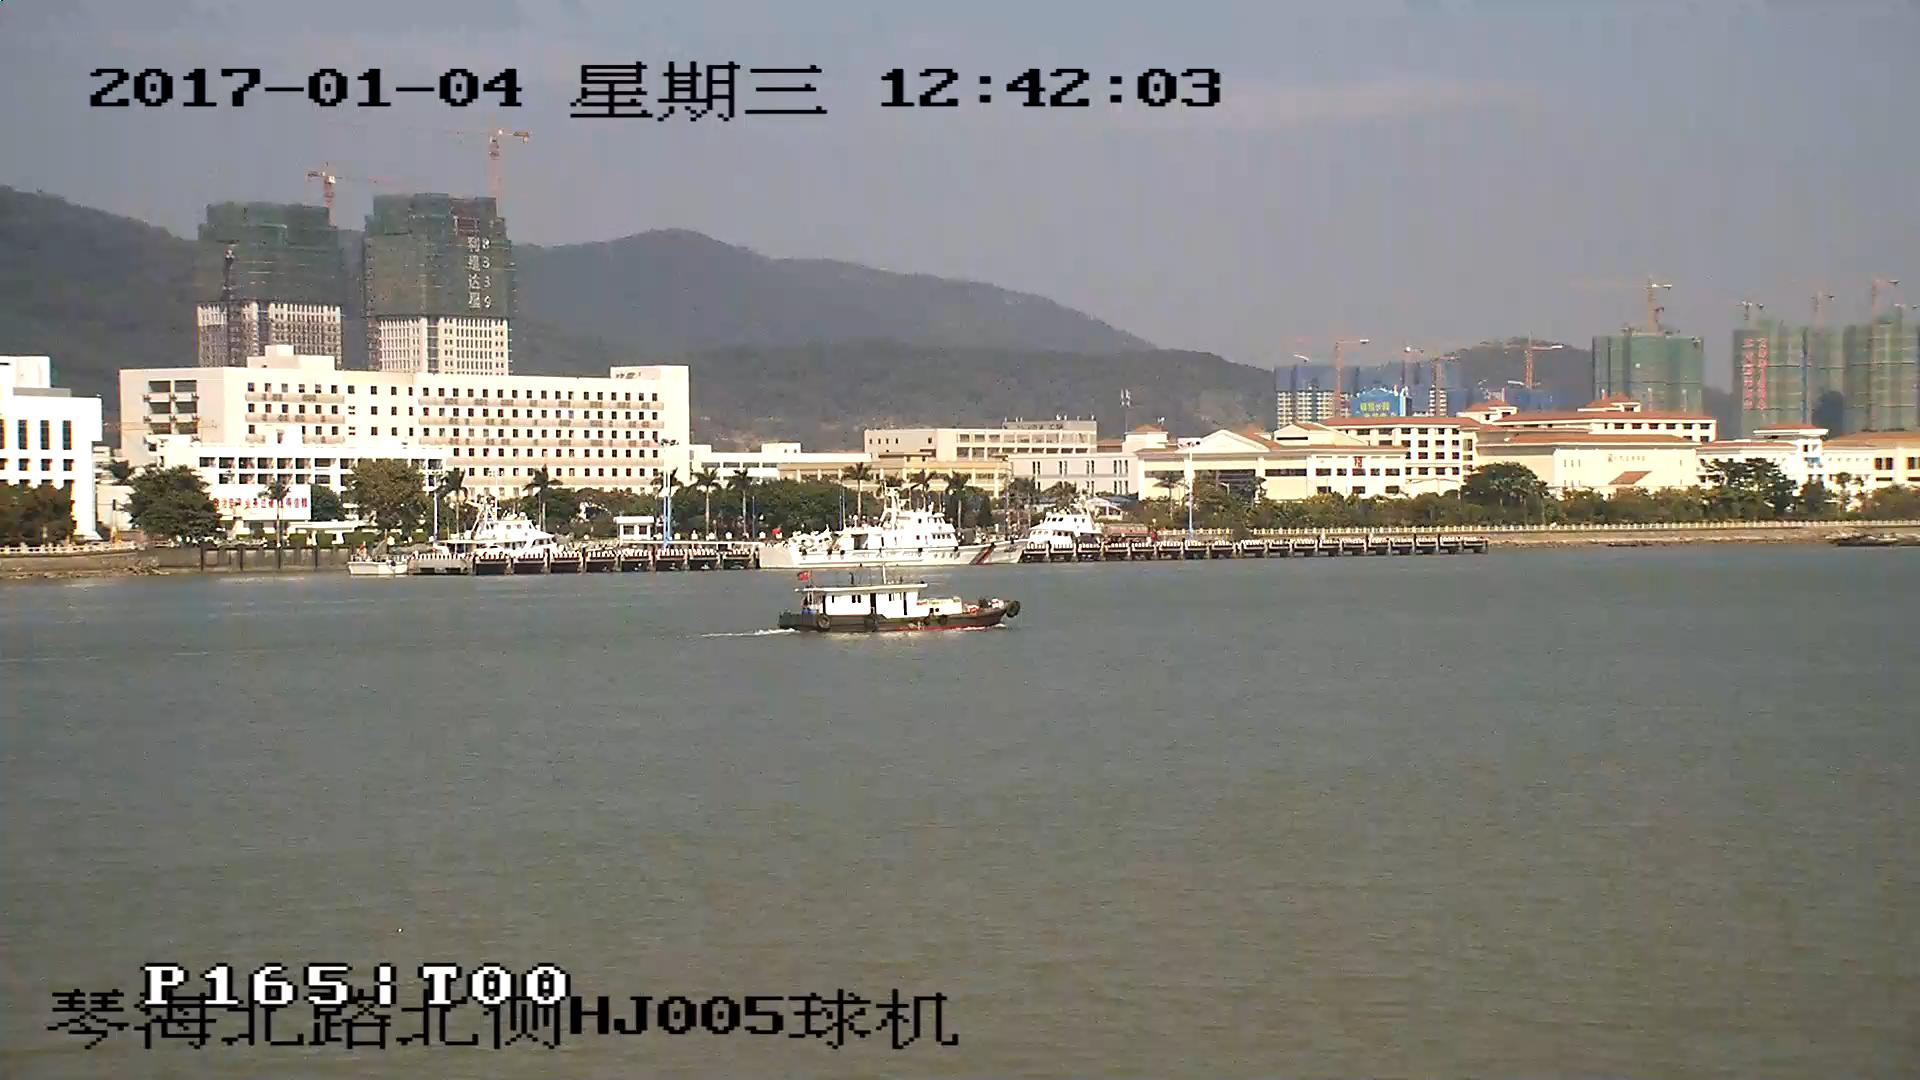fishing boat: (782, 573, 1019, 632)
